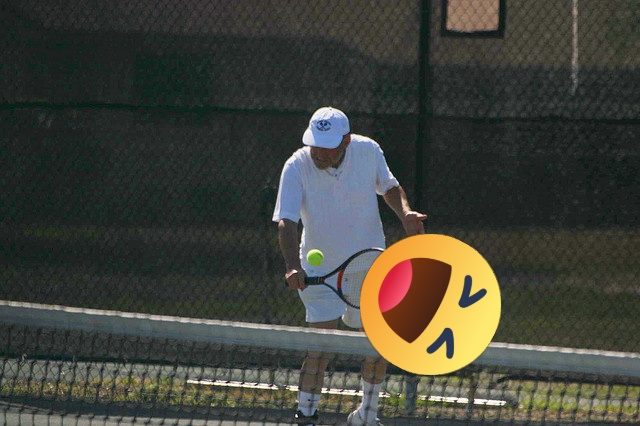haha: (360, 234, 501, 375)
